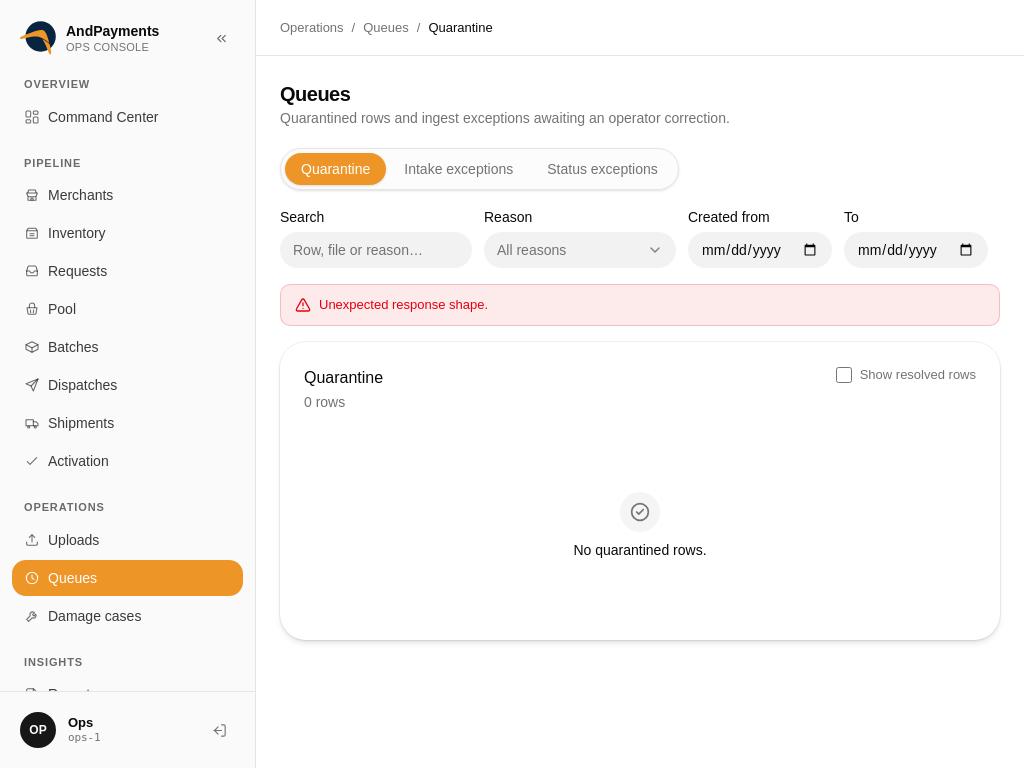
Test: ops-portal app shell + navigation › routing switches the content region between two routes
Expected: the navigation bar named "main" is shown, [0,76,255,691]
Expected: the heading "Queues" is shown, [280,83,350,105]
What coordinates should you click on to do the following:
click the link "Uploads"
I would click on:
 (62, 540)
Its box is [24,532,99,548].
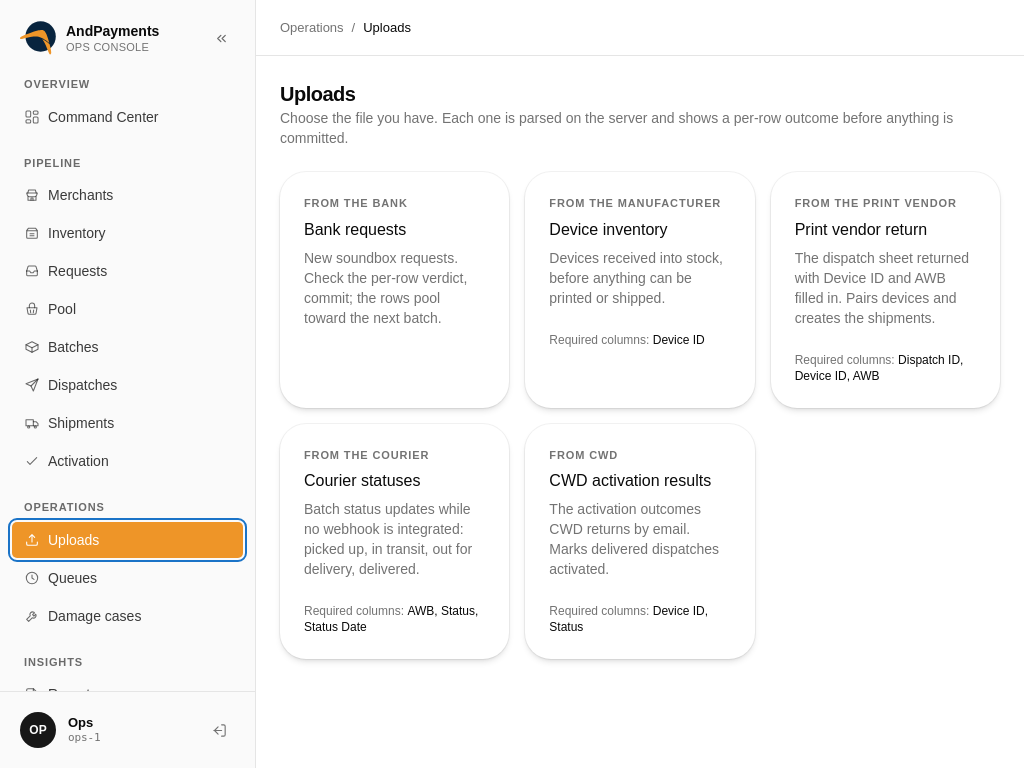
Now the heading "Uploads" is shown, box [280,83,355,105]
